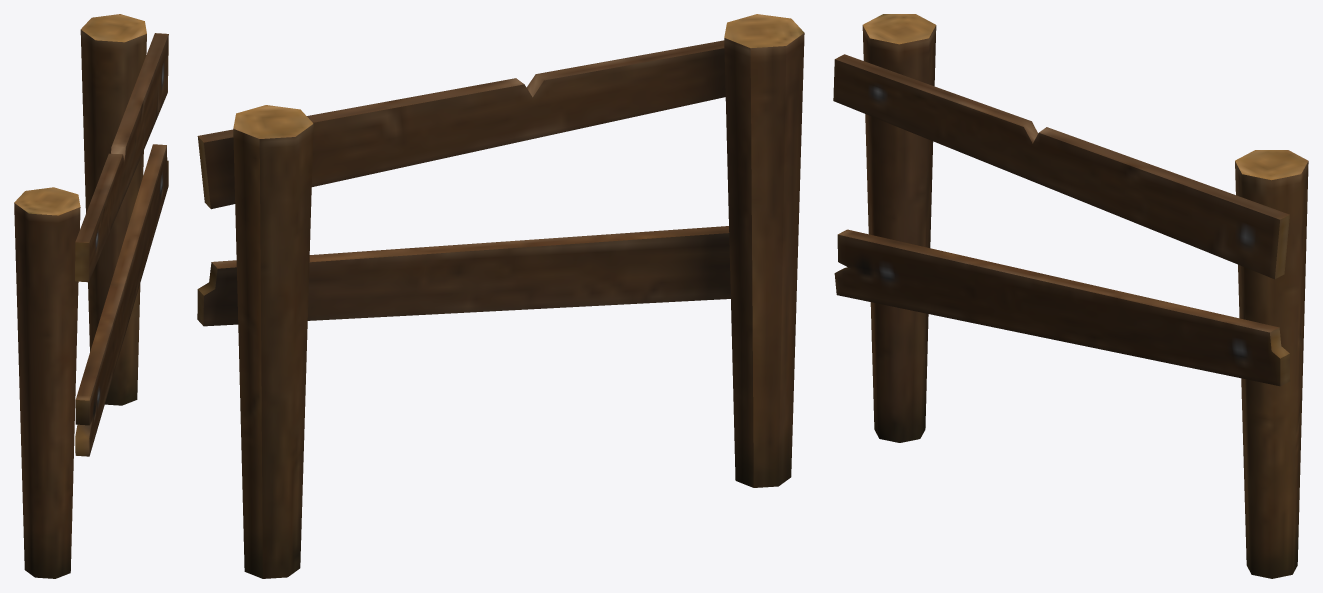
Rendered from Fence3.fbx.
The picture shows the model from 3 angles, left to right: view 1: azimuth 30°, elevation 25°; view 2: azimuth 150°, elevation 25°; view 3: azimuth 270°, elevation 25°; orthographic projection. The views are drawn at different scales.
Parts seen in each view (by area): view 1: Fence3; view 2: Fence3; view 3: Fence3.
Boxes of the visible parts, x1,y1,x2,y2 form: Fence3: [14, 14, 168, 578]; Fence3: [197, 14, 804, 578]; Fence3: [833, 14, 1308, 578].
Size of the model in its own units: 123 by 138 by 144.
Materials: 1 (1 with a texture image).
